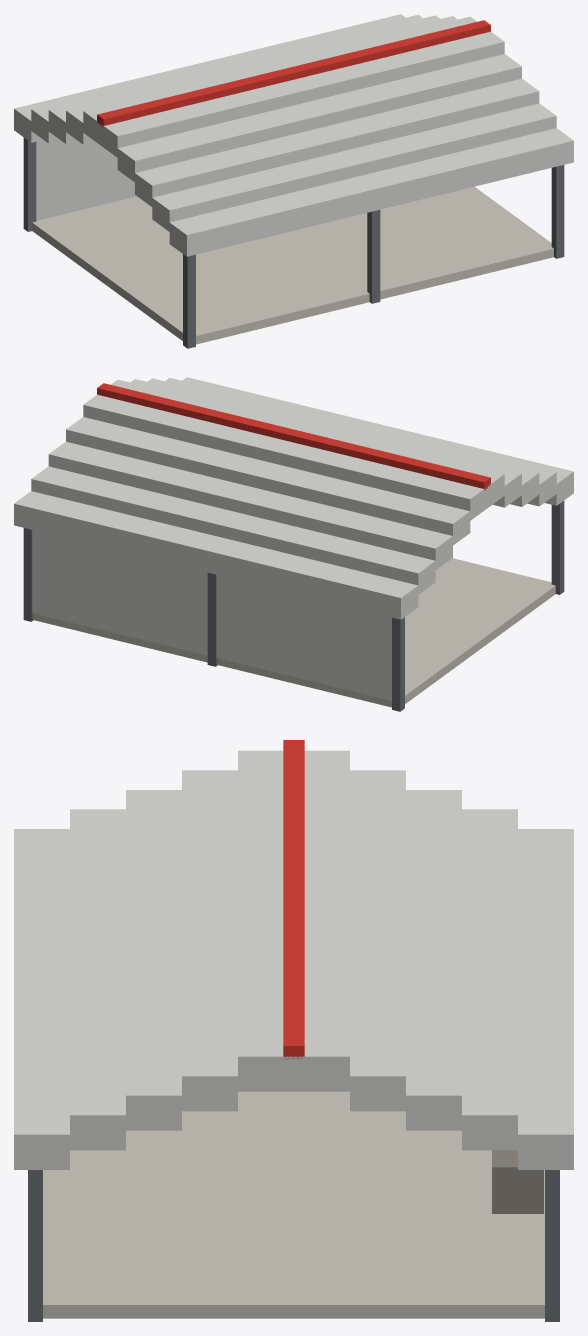
Rendered from paddockTent.glb.
The picture shows the model from 3 angles, top to bottom: view 1: azimuth 30°, elevation 25°; view 2: azimuth 150°, elevation 25°; view 3: azimuth 270°, elevation 25°; orthographic projection. The views are drawn at different scales.
Visible parts, largest first — view 1: paddockTent_white, paddockTent_concrete, paddockTent_red, paddockTent_steel; view 2: paddockTent_white, paddockTent_concrete, paddockTent_red, paddockTent_steel; view 3: paddockTent_white, paddockTent_concrete, paddockTent_red, paddockTent_steel, paddockTent_concreteDark.
Part boxes in pixels (x1,y1,x2,y2): paddockTent_white: (14,14,573,256); paddockTent_concrete: (32,186,553,344); paddockTent_red: (97,20,490,126); paddockTent_steel: (23,137,564,348); paddockTent_white: (14,377,573,700); paddockTent_concrete: (34,558,555,707); paddockTent_red: (97,383,490,490); paddockTent_steel: (23,500,564,711); paddockTent_white: (14,750,573,1169); paddockTent_concrete: (43,1091,544,1318); paddockTent_red: (283,740,304,1059); paddockTent_steel: (28,1170,559,1321); paddockTent_concreteDark: (492,1150,543,1213).
Bounding box in the file's own units: 16.8 × 7.18 × 13.
